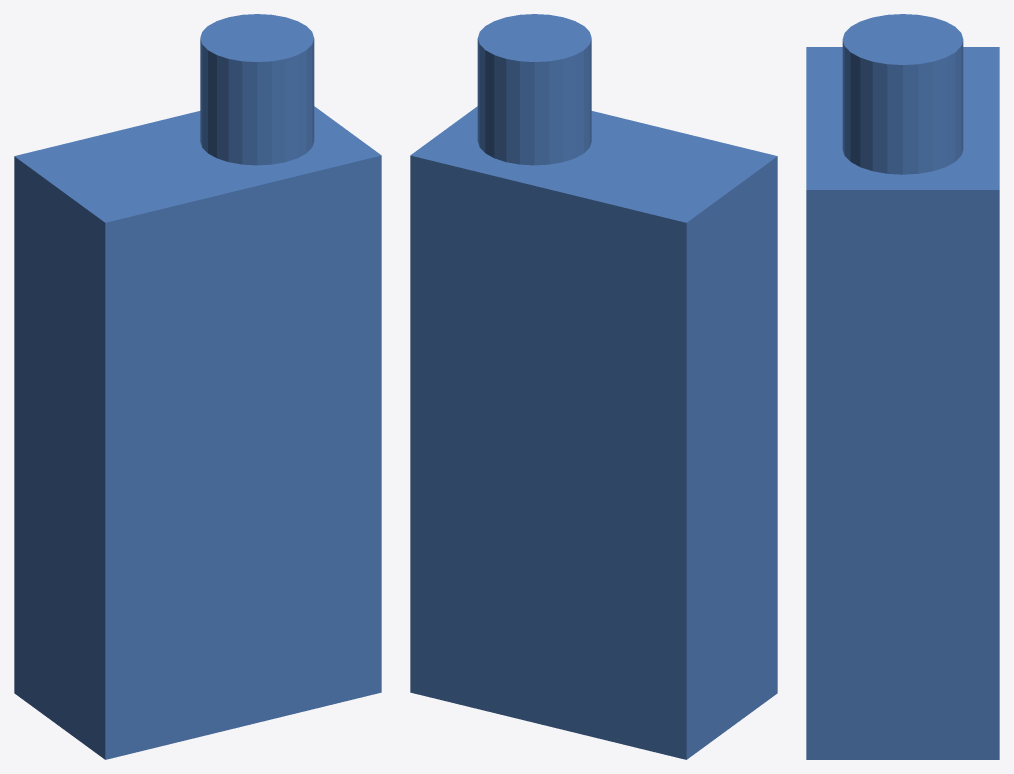
File: g_detergent.glb
3 views of the same model, side by side, from view 1: azimuth 30°, elevation 25°; view 2: azimuth 150°, elevation 25°; view 3: azimuth 270°, elevation 25° (orthographic). The views are drawn at different scales.
Parts seen in each view (by area): view 1: g_detergent; view 2: g_detergent; view 3: g_detergent.
Part boxes in pixels (x1,y1,x2,y2): g_detergent: (14, 14, 381, 759); g_detergent: (410, 14, 777, 759); g_detergent: (806, 14, 999, 759).
Size of the model in its own units: 0.14 by 0.31 by 0.08.
